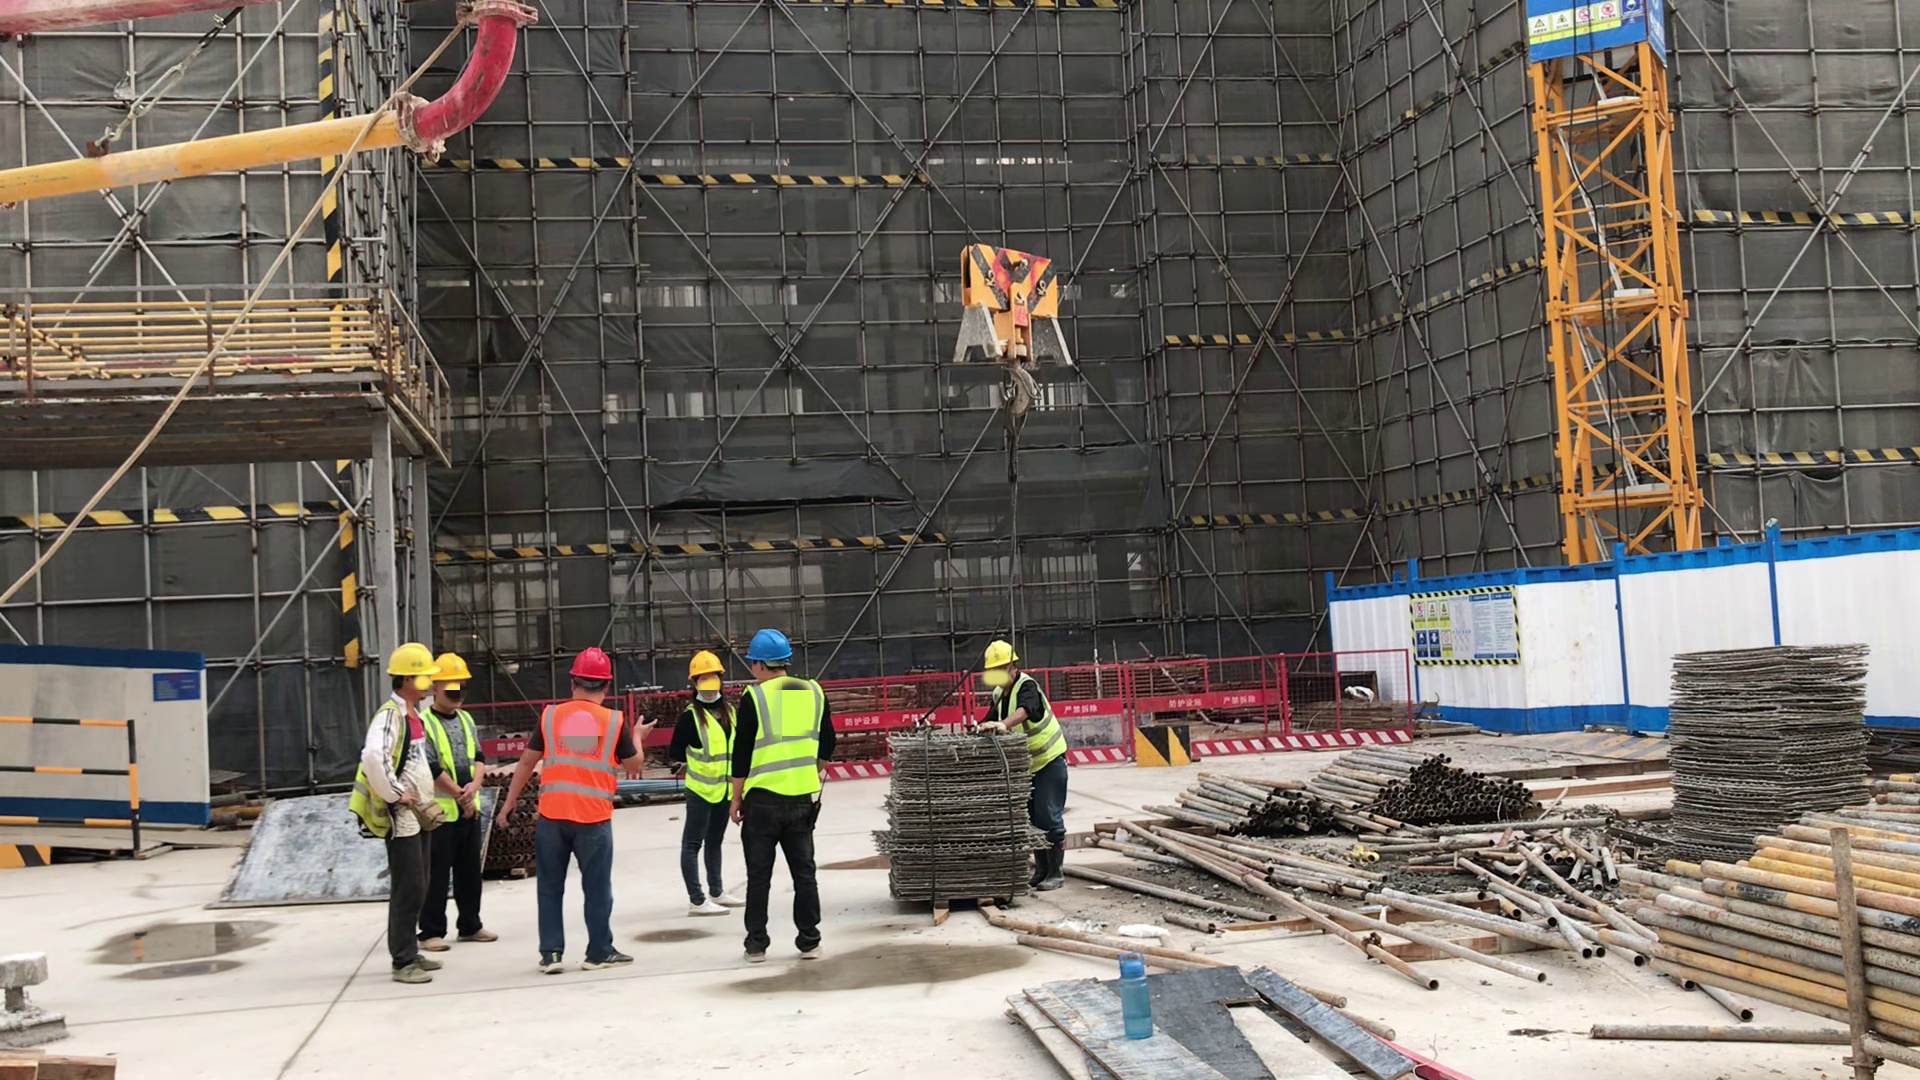fence: (1199, 650, 1410, 750), (11, 700, 145, 843), (830, 674, 891, 783), (1071, 658, 1122, 771)
helmet: (384, 643, 437, 676), (748, 632, 793, 670), (570, 651, 616, 685), (982, 642, 1020, 669), (438, 655, 472, 684), (686, 655, 725, 679)
hook: (951, 242, 1073, 423)
person: (504, 648, 660, 972), (735, 630, 840, 963), (347, 636, 447, 985), (433, 650, 500, 956), (671, 649, 733, 916), (979, 639, 1065, 732)
scaffold: (1634, 767, 1920, 1072), (1345, 735, 1552, 823), (1138, 768, 1349, 837)
slogan: (1413, 589, 1515, 664), (1525, 2, 1645, 48)
vest: (535, 701, 627, 824), (747, 679, 828, 805), (353, 701, 411, 842), (427, 705, 482, 822), (686, 700, 739, 805), (1015, 677, 1068, 774)
